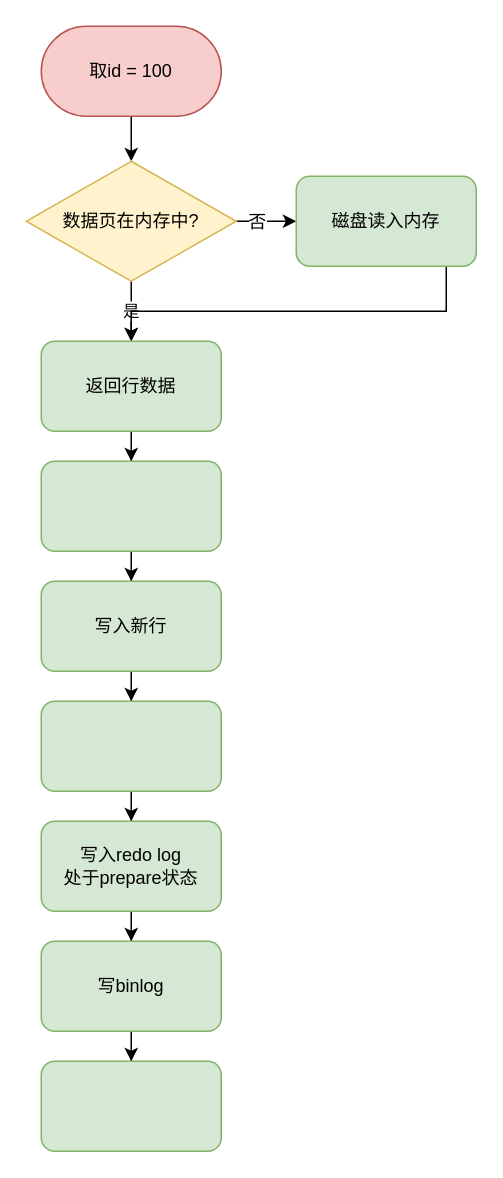
The diagram is 503 pixels wide and 1178 high, and some of its shapes have lost their labels. The centre of each missing label's shape, as x and y in pixels:
提交事务 处于commit状态: the point at 130,1105
新行更新到内存: the point at 130,745
这行的amount值-1: the point at 130,505
